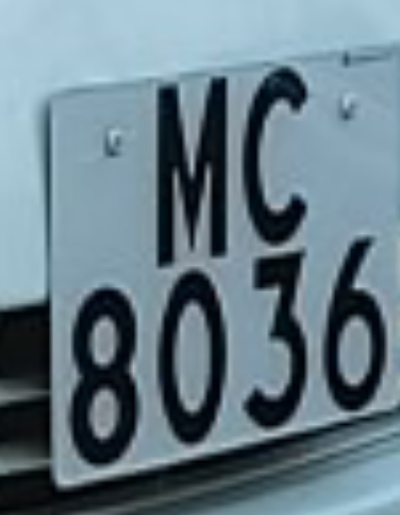0: (148, 262, 239, 459)
3: (239, 242, 320, 437)
6: (318, 221, 398, 418)
8: (60, 268, 151, 474)
C: (231, 57, 324, 250)
M: (140, 63, 241, 274)
